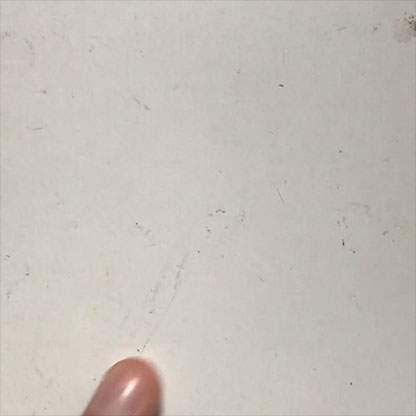fingertip: (84, 343, 167, 415)
